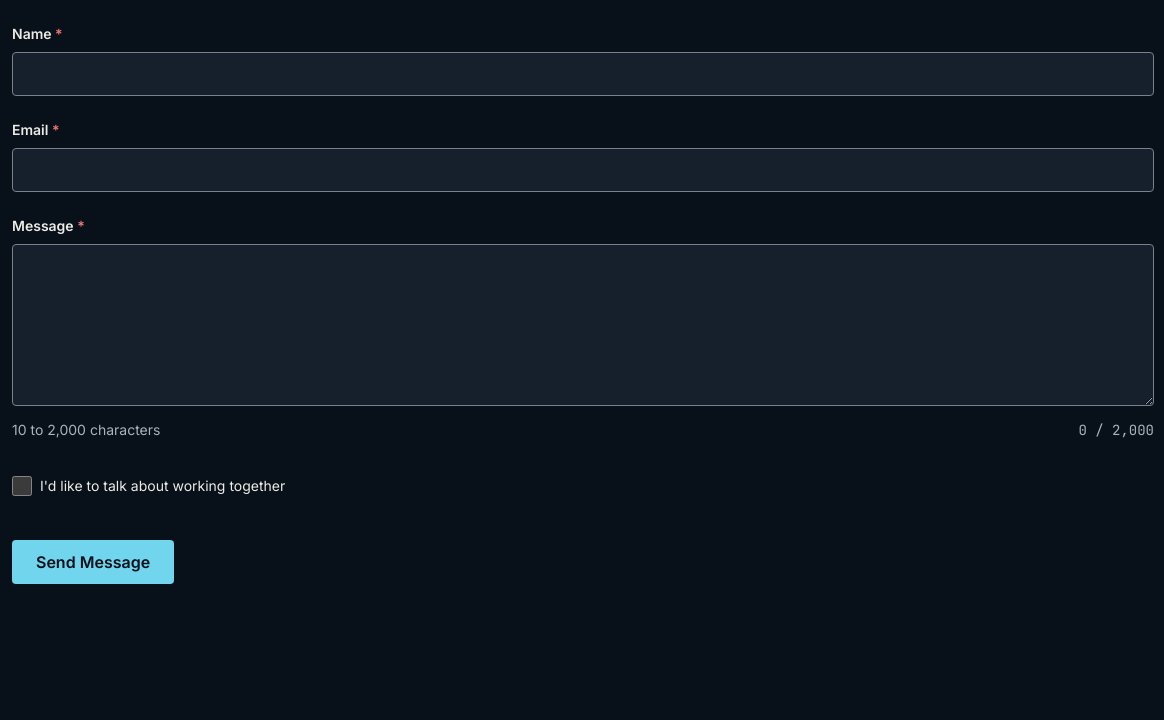
SummitRegister › rate limited with Retry-After 120 reads "Try again in 2 minutes, or email me at" and offers no Retry
Type "John Doe" into the field labelled "Name *" at (583, 74), box [12,52,1154,96]
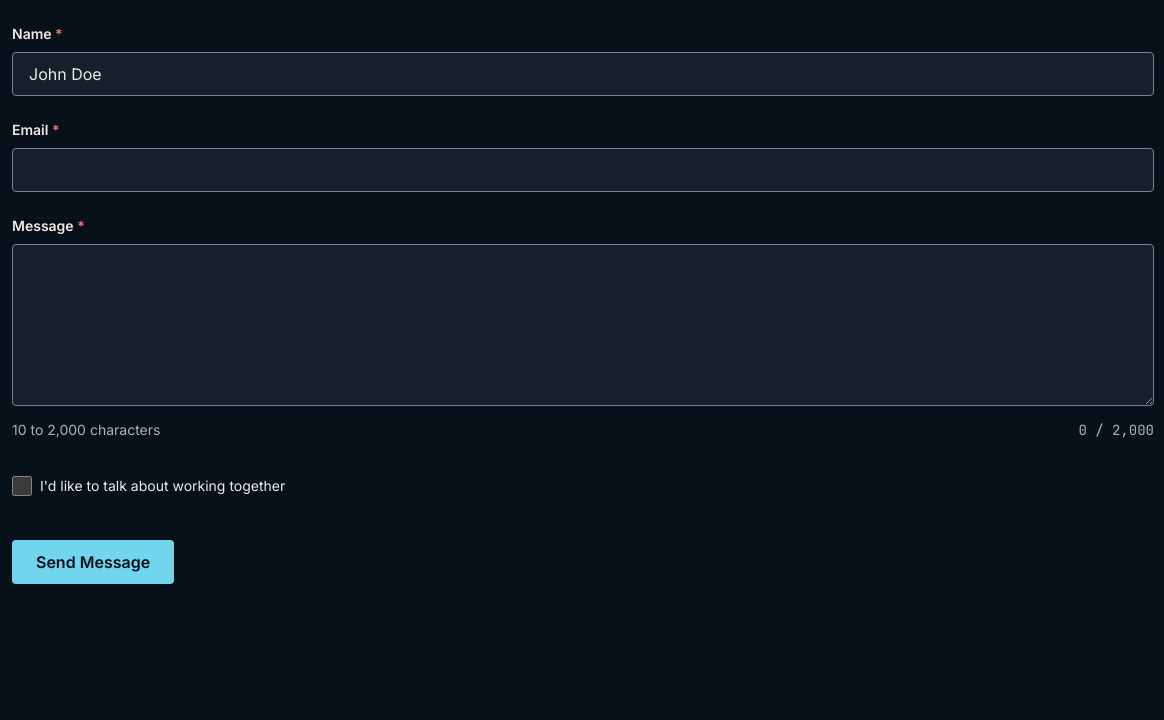
Type "john@example.com" into the field labelled "Email *" at (583, 170), box [12,148,1154,192]
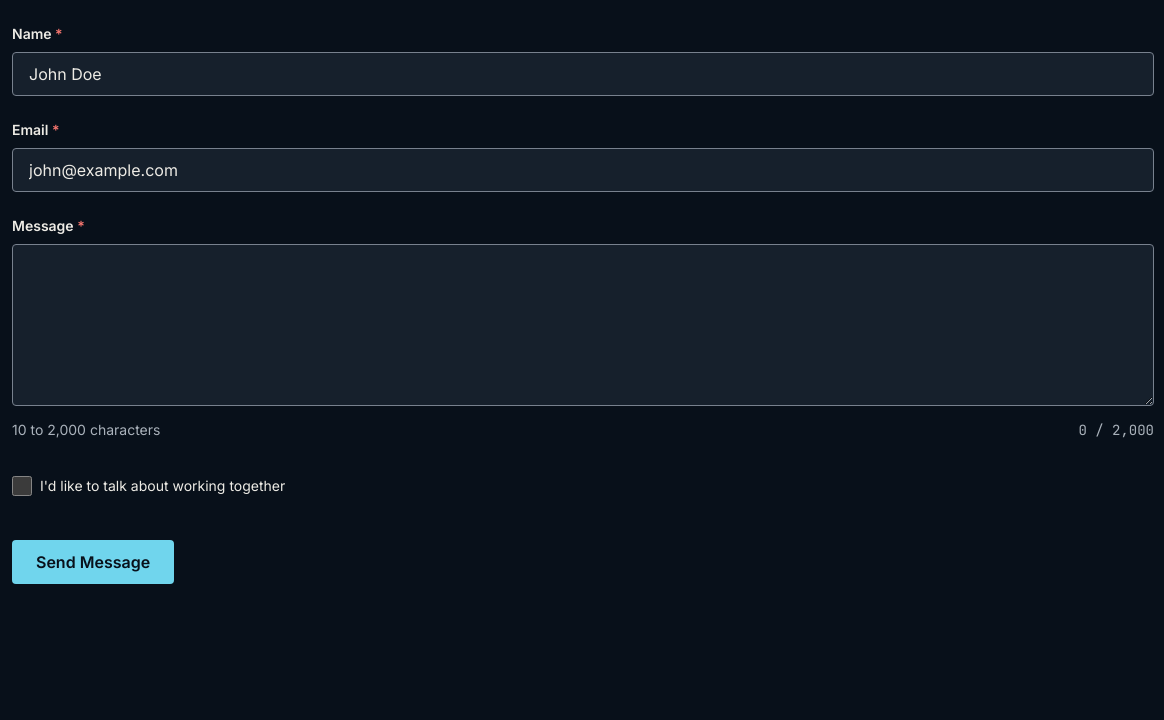
Type "This is a test message that is long enough." into the text box labelled "Message *" at (583, 325), box [12,244,1154,406]
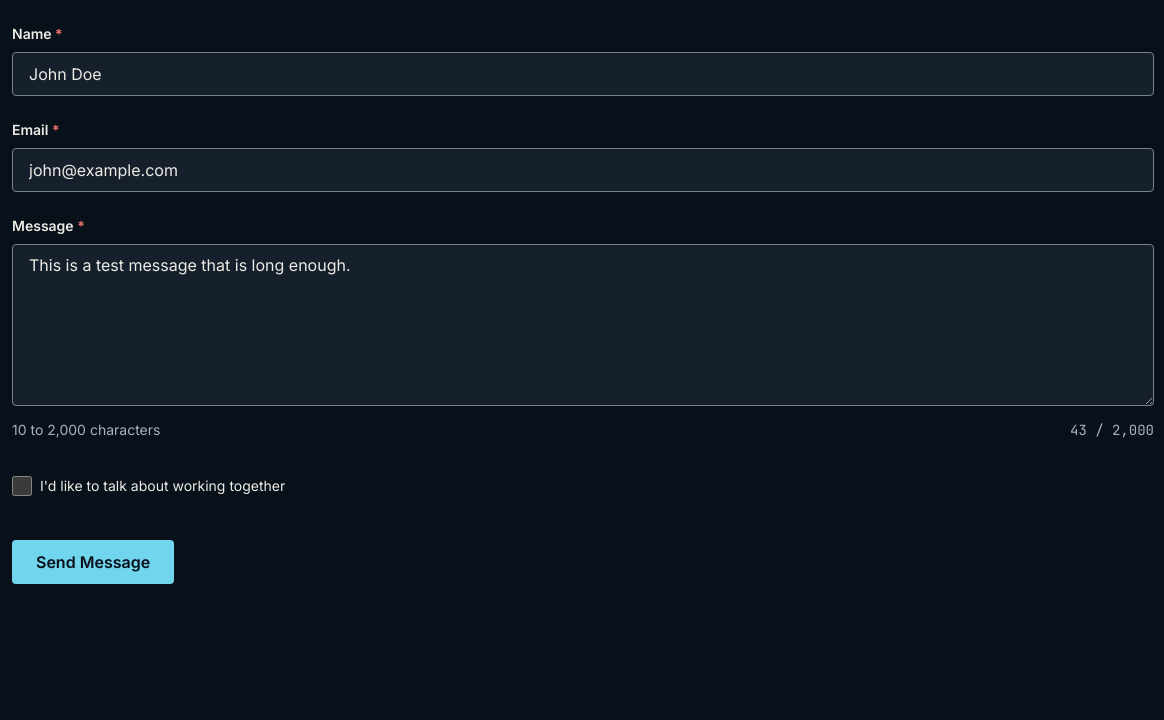
Click the button "Send Message" at (93, 562), box [12,540,174,584]
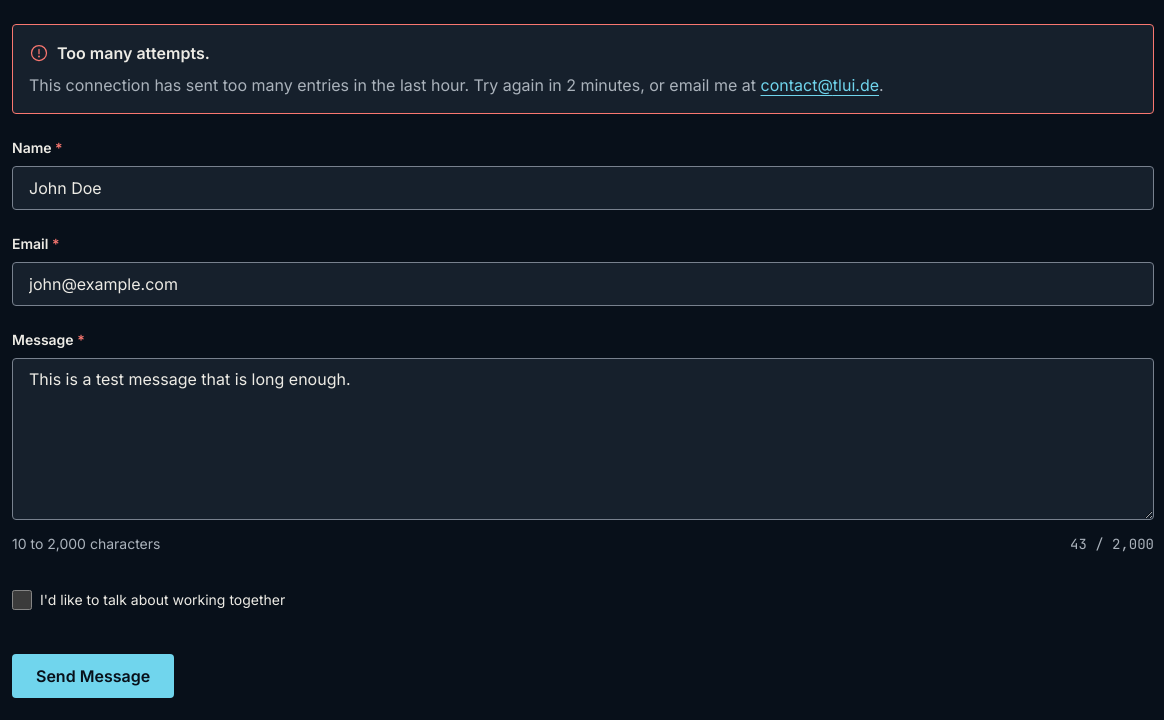
Now the message shows "Too many attempts.", box [57,43,210,63]
Now the message shows "Try again in 2 minutes, or email me at", box [12,24,1154,114]
